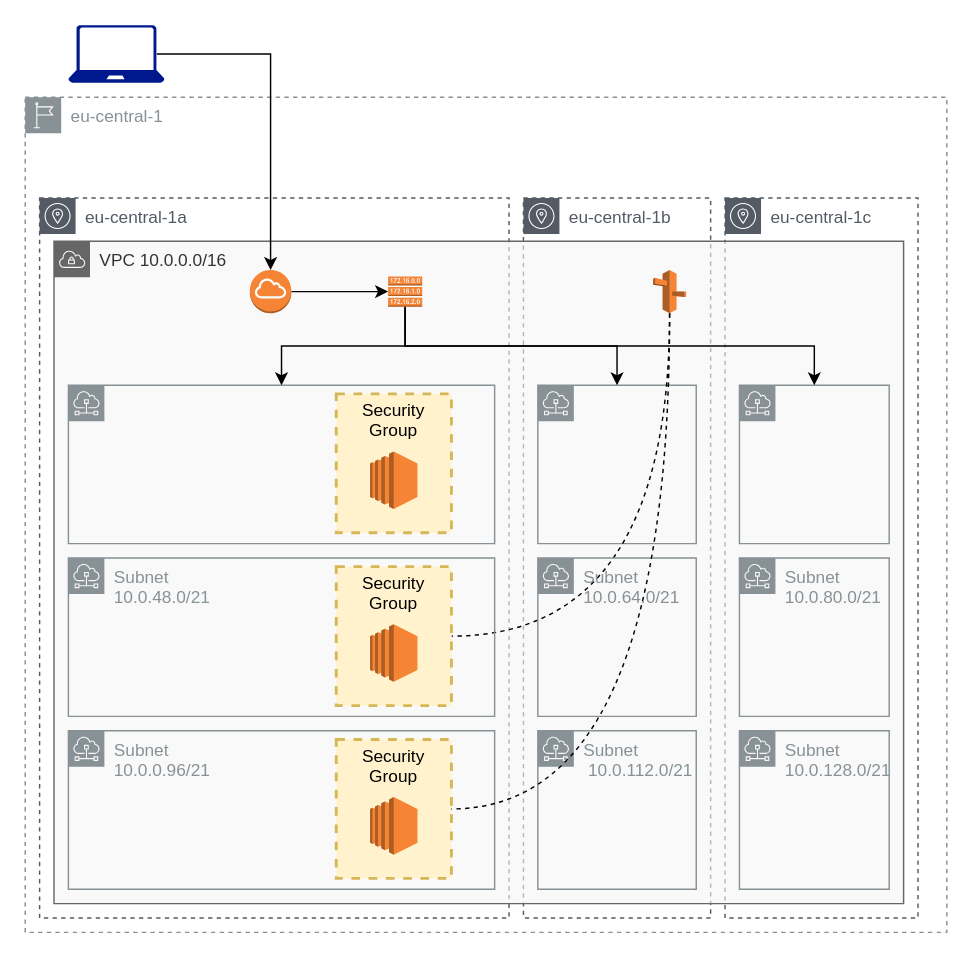
Some shapes in this 972 by 958 pixel diagram are drawn without their labels. Here are the shapes that lost their labels. From the top down, the box of each, then its label:
(248, 269, 291, 313): Internet gateway
(387, 275, 422, 307): Route table public
(652, 269, 686, 313): Route 53
(67, 384, 495, 544): Subnet 10.0.0.0/21
(536, 384, 696, 544): Subnet 10.0.16.0/21
(738, 384, 889, 544): Subnet 10.0.32.0/21
